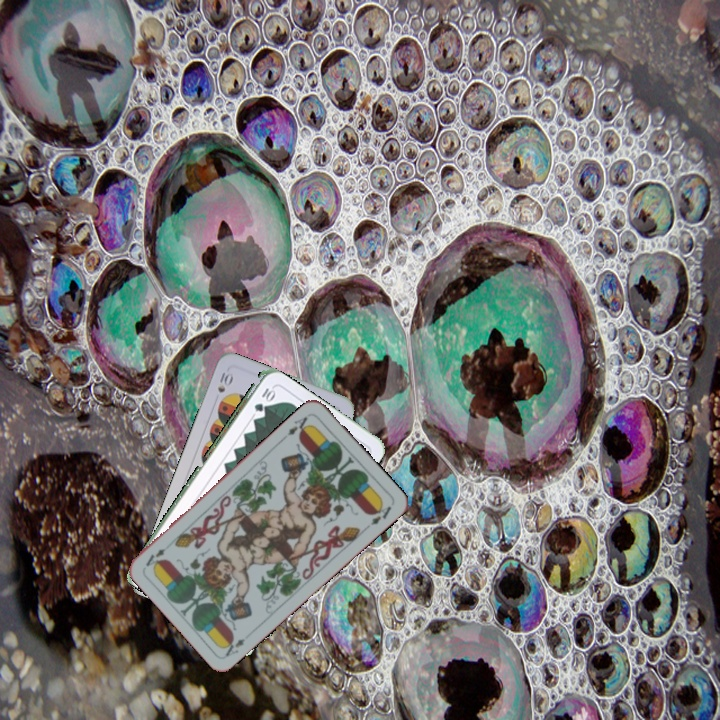EA: (279, 412, 313, 442), (218, 634, 248, 659)
G10: (250, 384, 276, 414)
S10: (213, 366, 236, 395)
